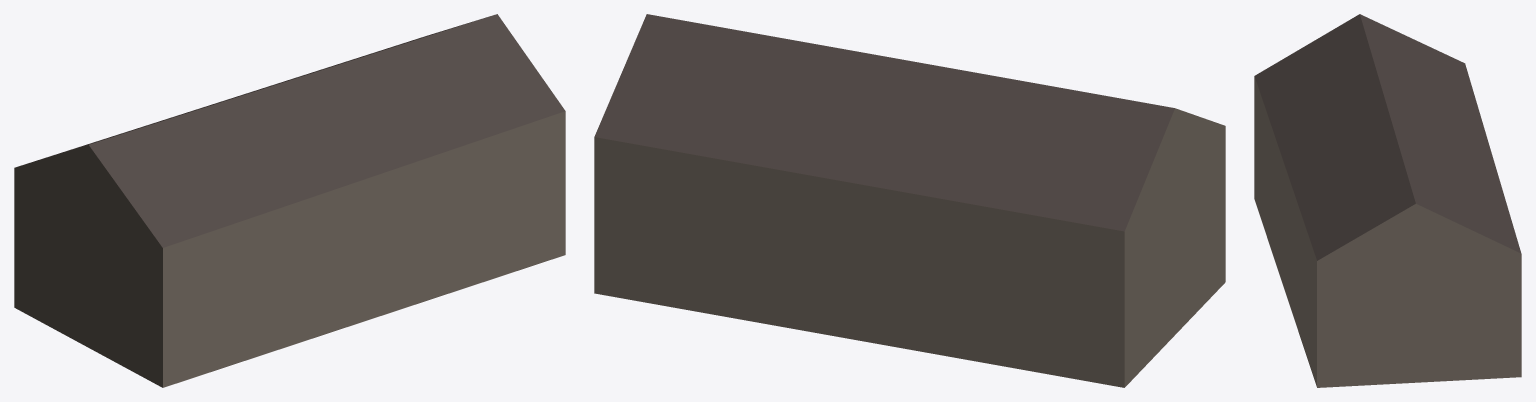
3 renders of one model, left to right at view 1: azimuth 30°, elevation 25°; view 2: azimuth 150°, elevation 25°; view 3: azimuth 270°, elevation 25°, orthographic. The views are drawn at different scales.
Visible parts, largest first — view 1: HP-w389702039; view 2: HP-w389702039; view 3: HP-w389702039.
Boxes of the visible parts, <box> form: HP-w389702039: <box>14,14,565,387</box>; HP-w389702039: <box>594,14,1225,387</box>; HP-w389702039: <box>1254,14,1521,387</box>.
Bounding box in the file's own units: 20.97 × 8.7 × 11.76.
